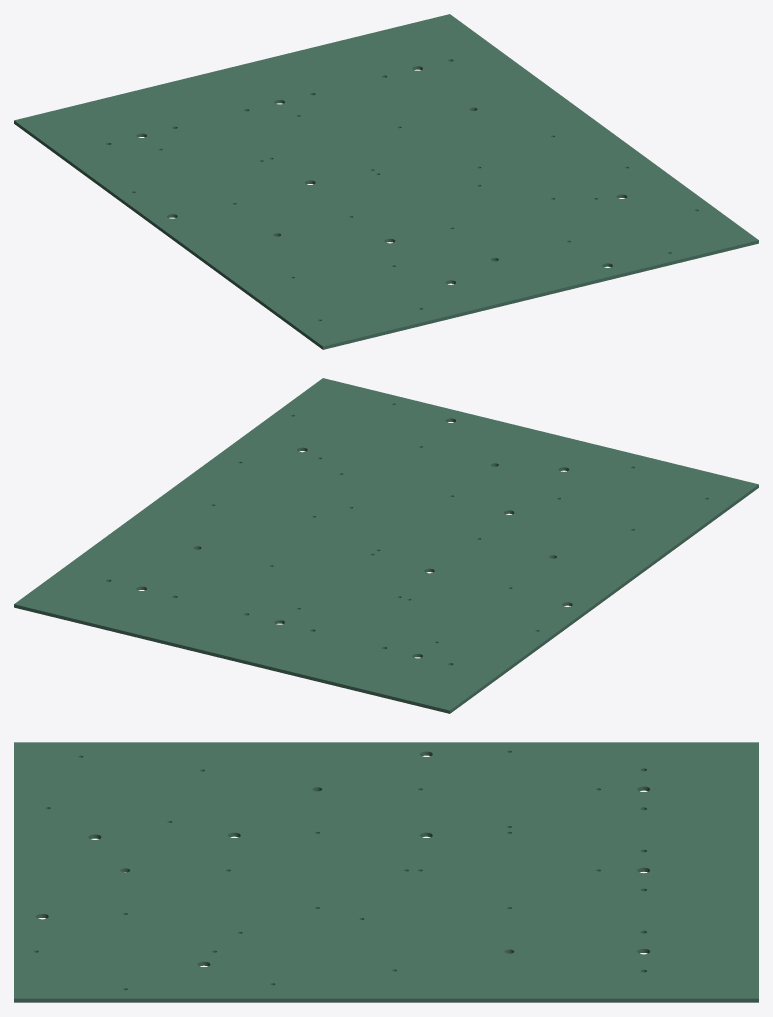
The model's file is array_plate.glb.
3 views of the same model, one above another, from view 1: azimuth 30°, elevation 25°; view 2: azimuth 150°, elevation 25°; view 3: azimuth 270°, elevation 25° (orthographic). The views are drawn at different scales.
Visible parts, largest first — view 1: =>[0:1:1:2]; view 2: =>[0:1:1:2]; view 3: =>[0:1:1:2].
Boxes of the visible parts, left/top/right/bottom form: =>[0:1:1:2]: left=14, top=14, right=758, bottom=349; =>[0:1:1:2]: left=14, top=378, right=758, bottom=713; =>[0:1:1:2]: left=14, top=742, right=758, bottom=1002.
Size of the model in its own units: 0.395 by 0.00291 by 0.485.
